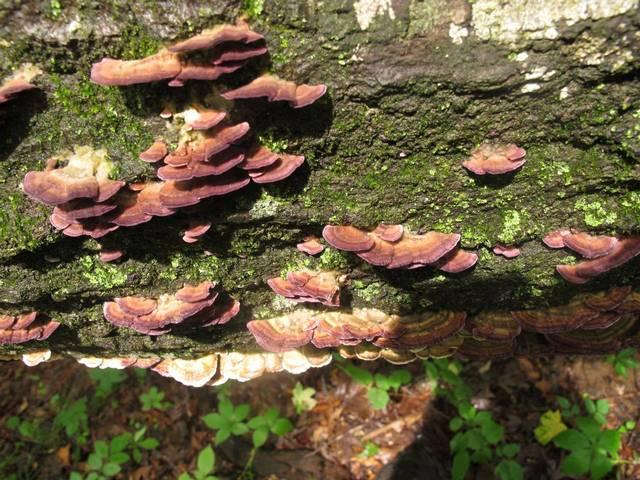poisonous_mushroom: (13, 110, 324, 257), (0, 268, 399, 352), (88, 19, 268, 88), (516, 204, 640, 288), (331, 217, 483, 268), (460, 138, 527, 177)
